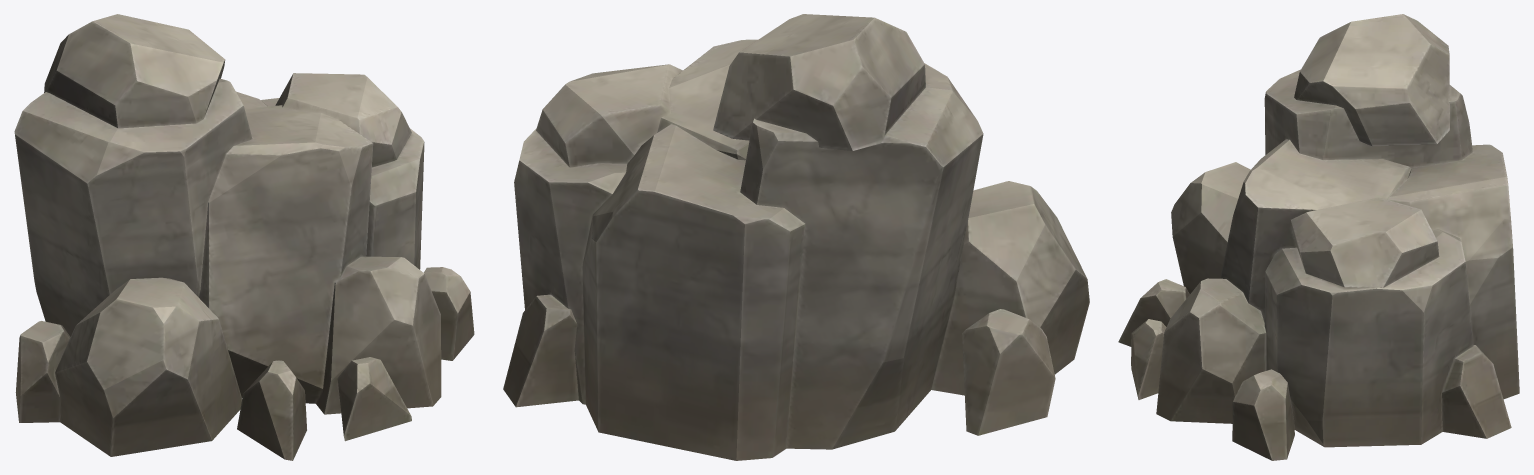
Rendered from rock_granite_large.glb.
3 renders of one model, left to right at view 1: azimuth 30°, elevation 25°; view 2: azimuth 150°, elevation 25°; view 3: azimuth 270°, elevation 25°, orthographic. The views are drawn at different scales.
Parts seen in each view (by area): view 1: Static_Mesh; view 2: Static_Mesh; view 3: Static_Mesh.
Part boxes in pixels (bbox=[...]): Static_Mesh: bbox=[14, 14, 474, 460]; Static_Mesh: bbox=[503, 14, 1089, 460]; Static_Mesh: bbox=[1118, 14, 1519, 460].
Bounding box in the file's own units: 3.88 × 2.87 × 3.39.
Materials: 1 (1 with a texture image).
